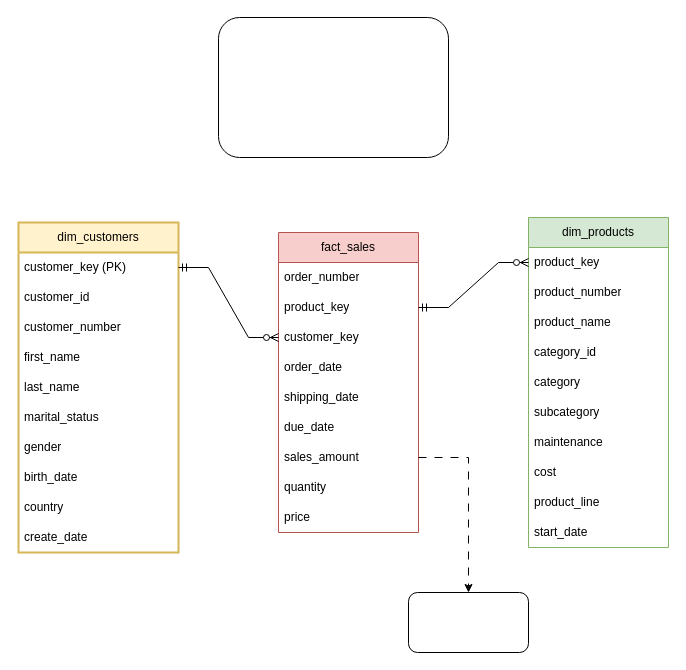
This 686x670 diagram has some shape labels left out. Each missing label, with the centre of its shape:
Data Model Of Gold Layer: pixel 333 87
sales_amount = price * quantity: pixel 468 622
